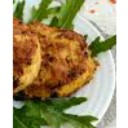cutlet: (30, 20, 97, 95), (12, 17, 41, 90)
